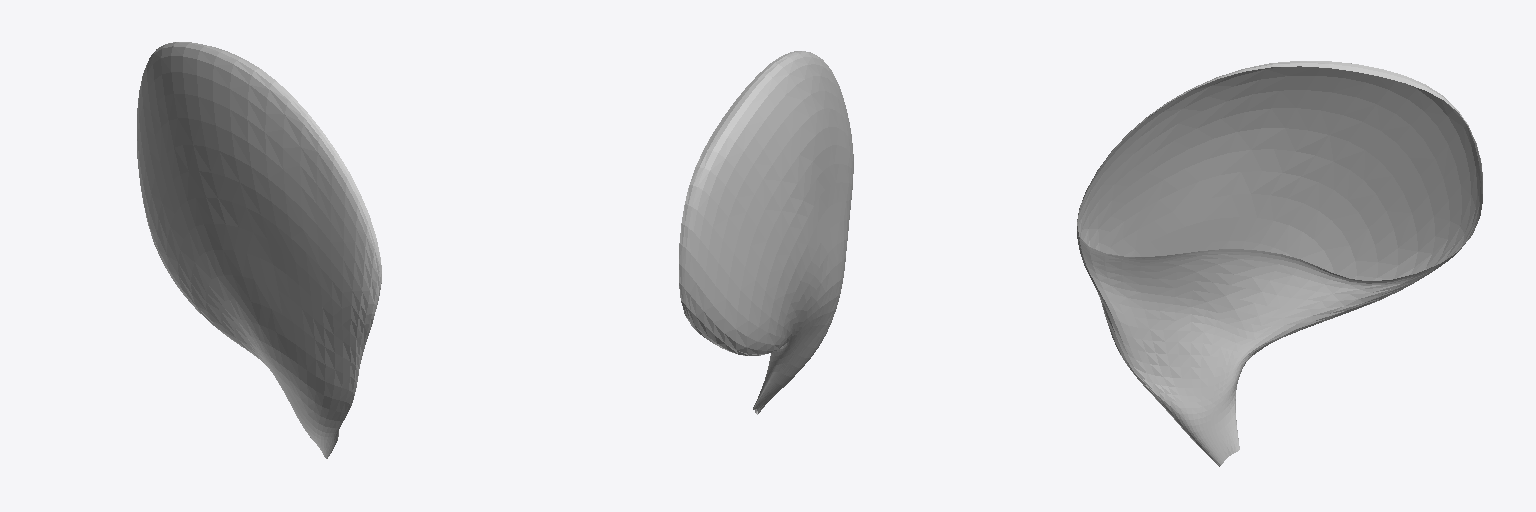
File: temporal_right.obj
The picture shows the model from 3 angles: view 1: azimuth 30°, elevation 25°; view 2: azimuth 150°, elevation 25°; view 3: azimuth 270°, elevation 25°; orthographic projection.
Visible parts, largest first — view 1: Temporal_Muscle_Right; view 2: Temporal_Muscle_Right; view 3: Temporal_Muscle_Right.
Part boxes in pixels (left/top/right/bottom): Temporal_Muscle_Right: left=137, top=42, right=381, bottom=458; Temporal_Muscle_Right: left=679, top=51, right=853, bottom=414; Temporal_Muscle_Right: left=1077, top=61, right=1482, bottom=466.
Size of the model in its own units: 0.3284 by 1.43 by 1.38.